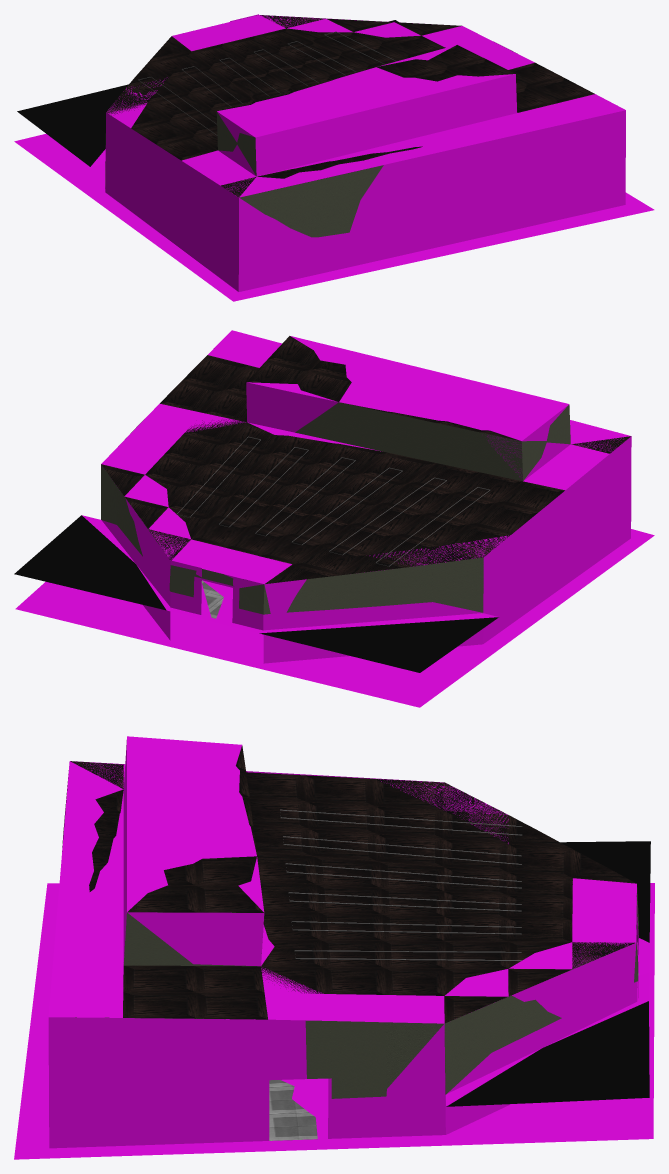
The model's file is office_obstacle_room.fbx.
The picture shows the model from 3 angles, top to bottom: view 1: azimuth 30°, elevation 25°; view 2: azimuth 150°, elevation 25°; view 3: azimuth 270°, elevation 25°; orthographic projection. The views are drawn at different scales.
Visible parts, largest first — view 1: walls1, ceiling (×2), TopCeiling (×2), floor22, walls, floor23, TopCeiling1; view 2: ceiling (×2), TopCeiling (×2), walls1, floor22, floor23, walls, TopCeiling1, walls2; view 3: ceiling (×2), walls1, TopCeiling (×2), floor22, floor23, walls, TopCeiling1, floor, Lights2, Lights1, LongLights:Lights1, LongLights:Lights2 (+2 smaller).
Boxes of the visible parts, x1=… form: walls1: x1=105, y1=15, x2=625, y2=291; ceiling (×2): x1=106, y1=15, x2=625, y2=197; TopCeiling (×2): x1=216, y1=45, x2=517, y2=176; floor22: x1=14, y1=134, x2=654, y2=301; walls: x1=105, y1=50, x2=517, y2=237; floor23: x1=17, y1=20, x2=398, y2=166; TopCeiling1: x1=218, y1=45, x2=515, y2=110; ceiling (×2): x1=101, y1=330, x2=630, y2=584; TopCeiling (×2): x1=246, y1=336, x2=570, y2=481; walls1: x1=101, y1=436, x2=631, y2=663; floor22: x1=15, y1=529, x2=654, y2=707; floor23: x1=14, y1=515, x2=498, y2=672; walls: x1=101, y1=419, x2=483, y2=614; TopCeiling1: x1=246, y1=336, x2=520, y2=440; walls2: x1=170, y1=560, x2=201, y2=614; ceiling (×2): x1=48, y1=761, x2=636, y2=1023; walls1: x1=48, y1=761, x2=638, y2=1148; TopCeiling (×2): x1=123, y1=736, x2=264, y2=966; floor22: x1=14, y1=883, x2=654, y2=1159; floor23: x1=446, y1=841, x2=650, y2=1106; walls: x1=75, y1=828, x2=638, y2=1098; TopCeiling1: x1=127, y1=745, x2=263, y2=912; floor: x1=269, y1=1080, x2=317, y2=1140; Lights2: x1=294, y1=950, x2=521, y2=960; Lights1: x1=291, y1=921, x2=521, y2=934; LongLights:Lights1: x1=288, y1=892, x2=521, y2=911; LongLights:Lights2: x1=285, y1=863, x2=521, y2=888.
Size of the model in its own units: 153 by 46.75 by 149.
